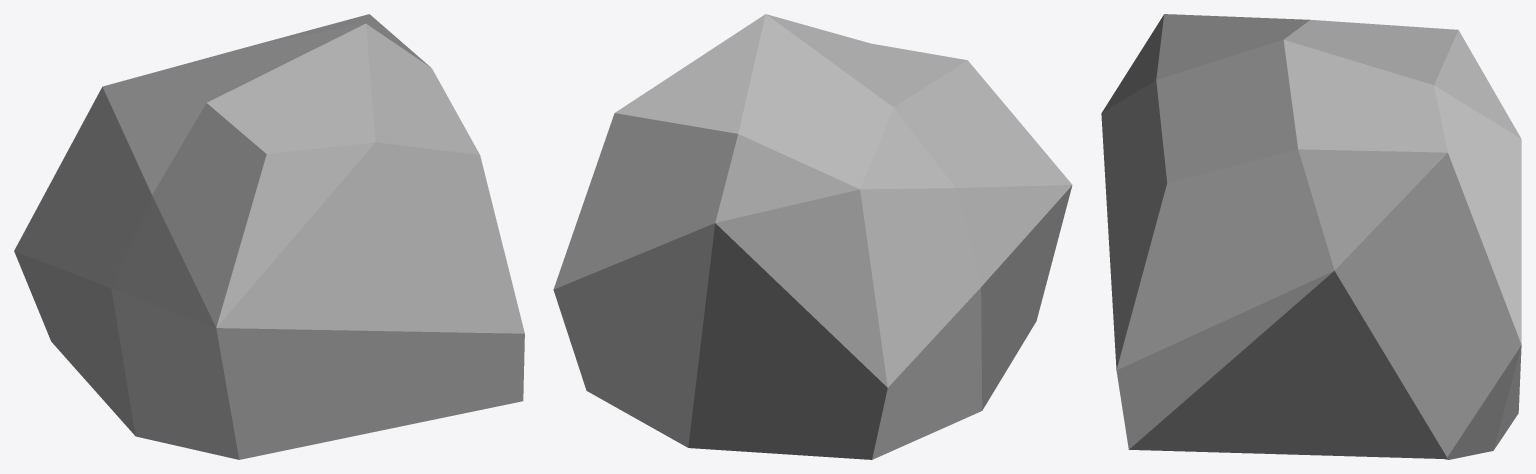
File: pedra.obj
The picture shows the model from 3 angles, left to right: view 1: azimuth 30°, elevation 25°; view 2: azimuth 150°, elevation 25°; view 3: azimuth 270°, elevation 25°; orthographic projection. The views are drawn at different scales.
Visible parts, largest first — view 1: Cube; view 2: Cube; view 3: Cube.
Boxes of the visible parts, x1,y1,x2,y2 form: Cube: (14,14,524,459); Cube: (553,14,1072,459); Cube: (1101,14,1521,459).
Bounding box in the file's own units: 1.39 × 1.38 × 1.35.
Materials: 1 (1 with a texture image).
